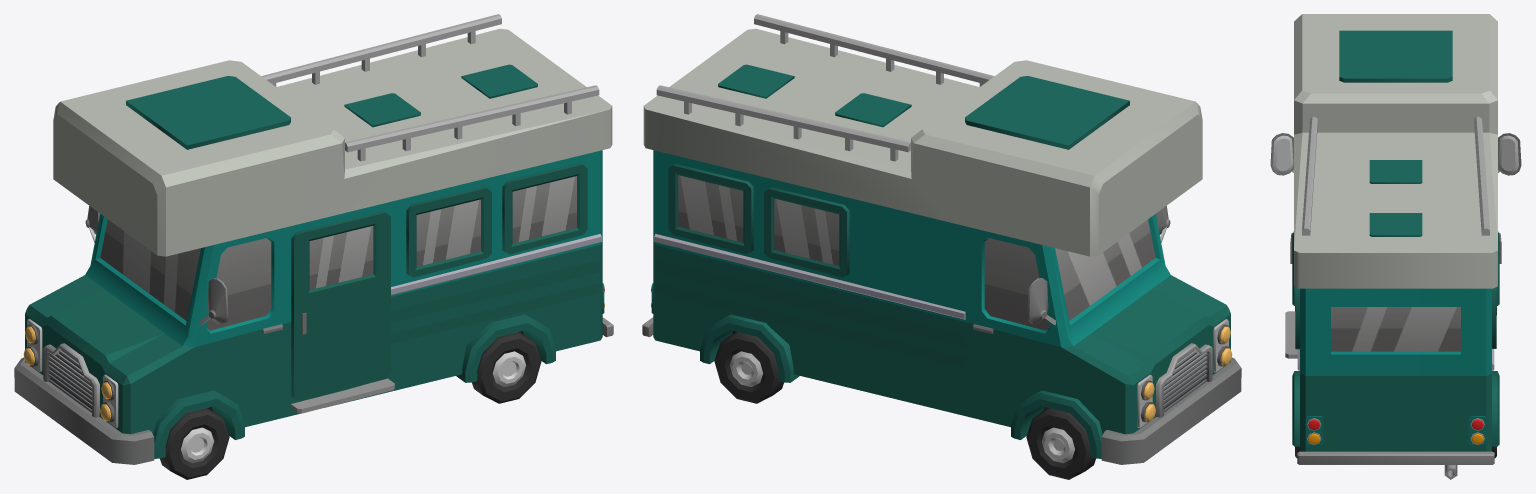
The model's file is RVCar_H.gltf.
3 renders of one model, left to right at view 1: azimuth 30°, elevation 25°; view 2: azimuth 150°, elevation 25°; view 3: azimuth 270°, elevation 25°, orthographic. The views are drawn at different scales.
Parts seen in each view (by area): view 1: RVCar_H, RL, FL; view 2: RVCar_H, RR, FR; view 3: RVCar_H.
Part boxes in pixels (x1,y1,x2,y2): RVCar_H: (14, 14, 613, 464); RL: (472, 332, 541, 403); FL: (160, 408, 229, 479); RVCar_H: (642, 14, 1241, 464); RR: (714, 332, 783, 403); FR: (1026, 408, 1095, 479); RVCar_H: (1270, 14, 1521, 479).
Bounding box in the file's own units: 4.14 × 2.46 × 1.94.
Materials: 4 (4 with a texture image).
